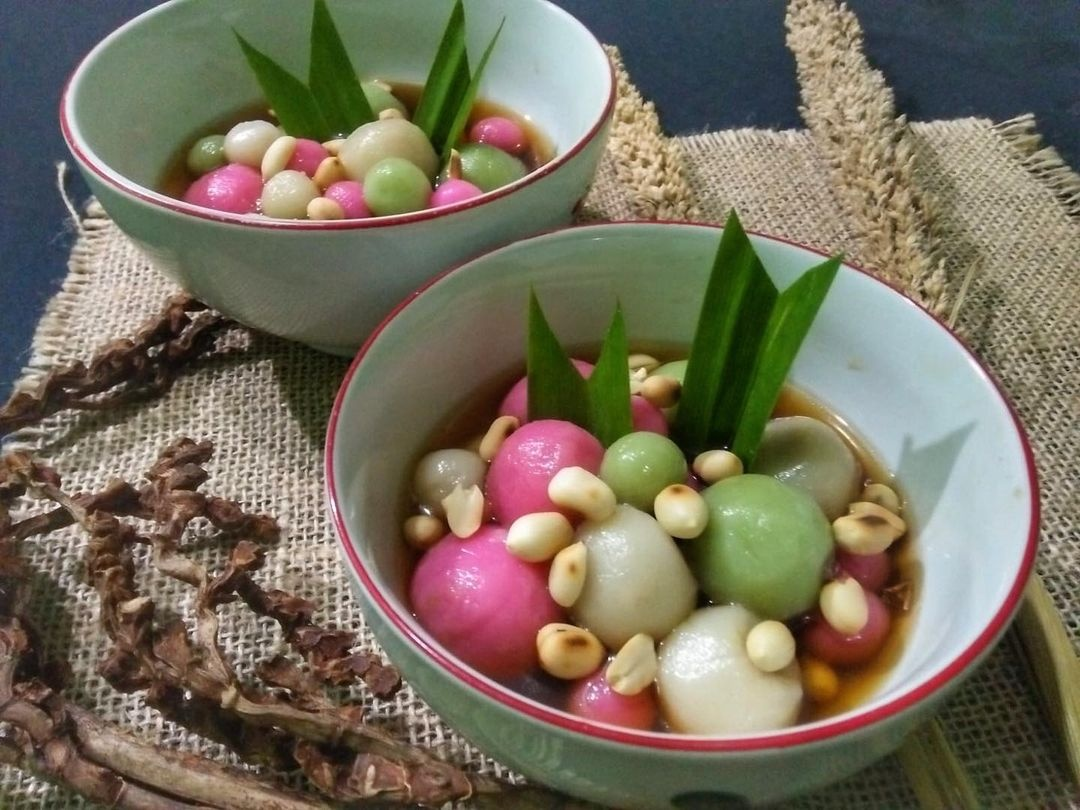ronde: (396, 337, 923, 734), (159, 79, 554, 218)
